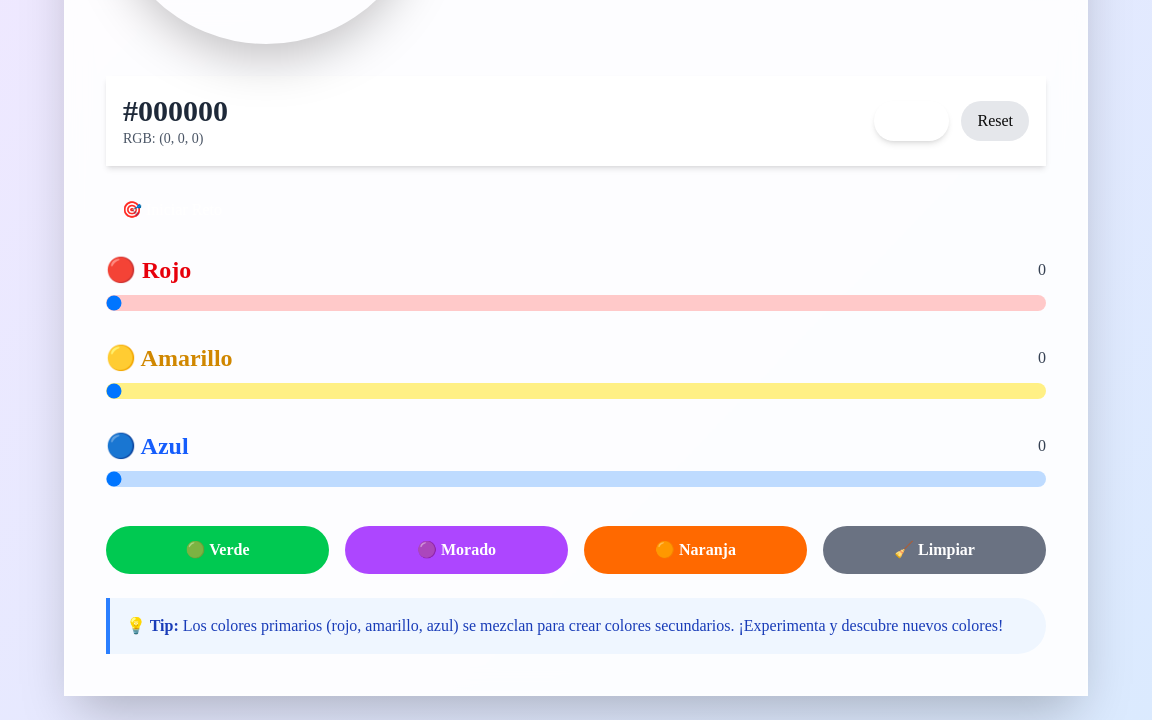
Test: ColorMixer Component › debe aplicar preset verde correctamente
The image size is (1152, 720).
(page scrolled)
Click the button with test id "preset-green". click: x=218, y=550
box: [106,526,329,574]
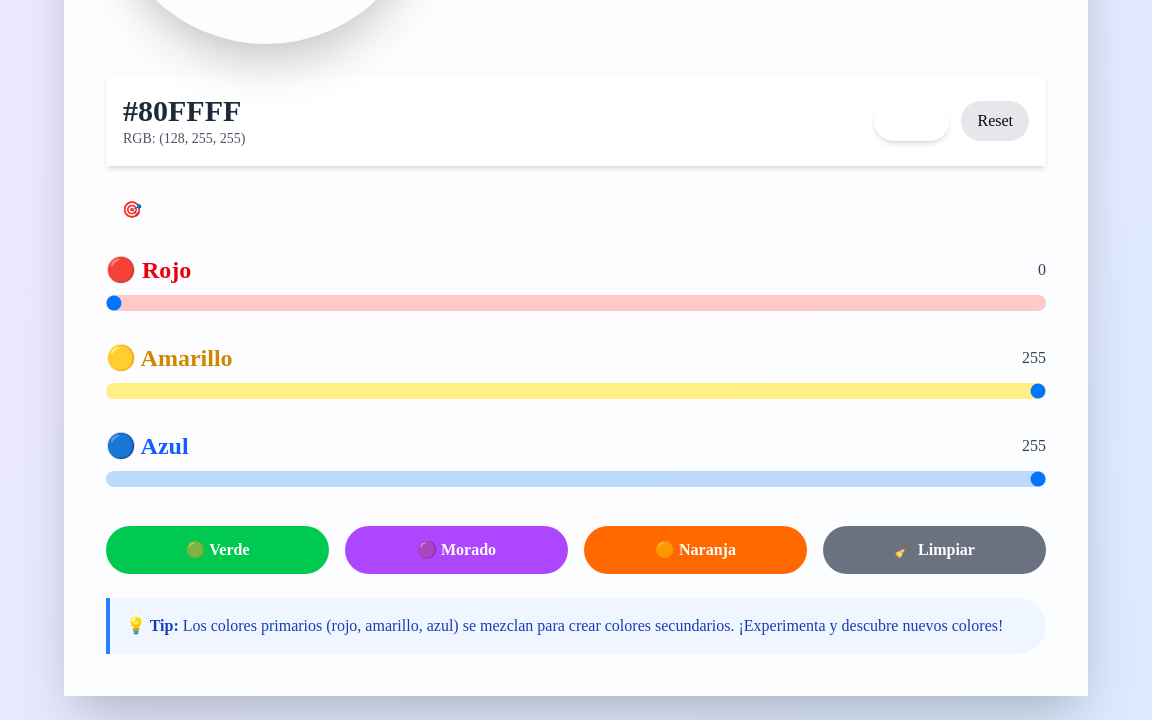
expect the slider with test id "red-slider" holds "0": met, box [106,295,1046,311]
expect the slider with test id "yellow-slider" holds "255": met, box [106,383,1046,399]
expect the slider with test id "blue-slider" holds "255": met, box [106,471,1046,487]
